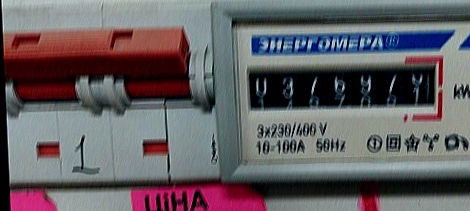0: (249, 74, 264, 97)
1: (407, 85, 419, 106)
3: (277, 77, 292, 98)
6: (328, 70, 344, 94)
7: (302, 73, 318, 97), (380, 71, 396, 95)
9: (354, 71, 369, 94)
screen: (234, 46, 446, 131)
